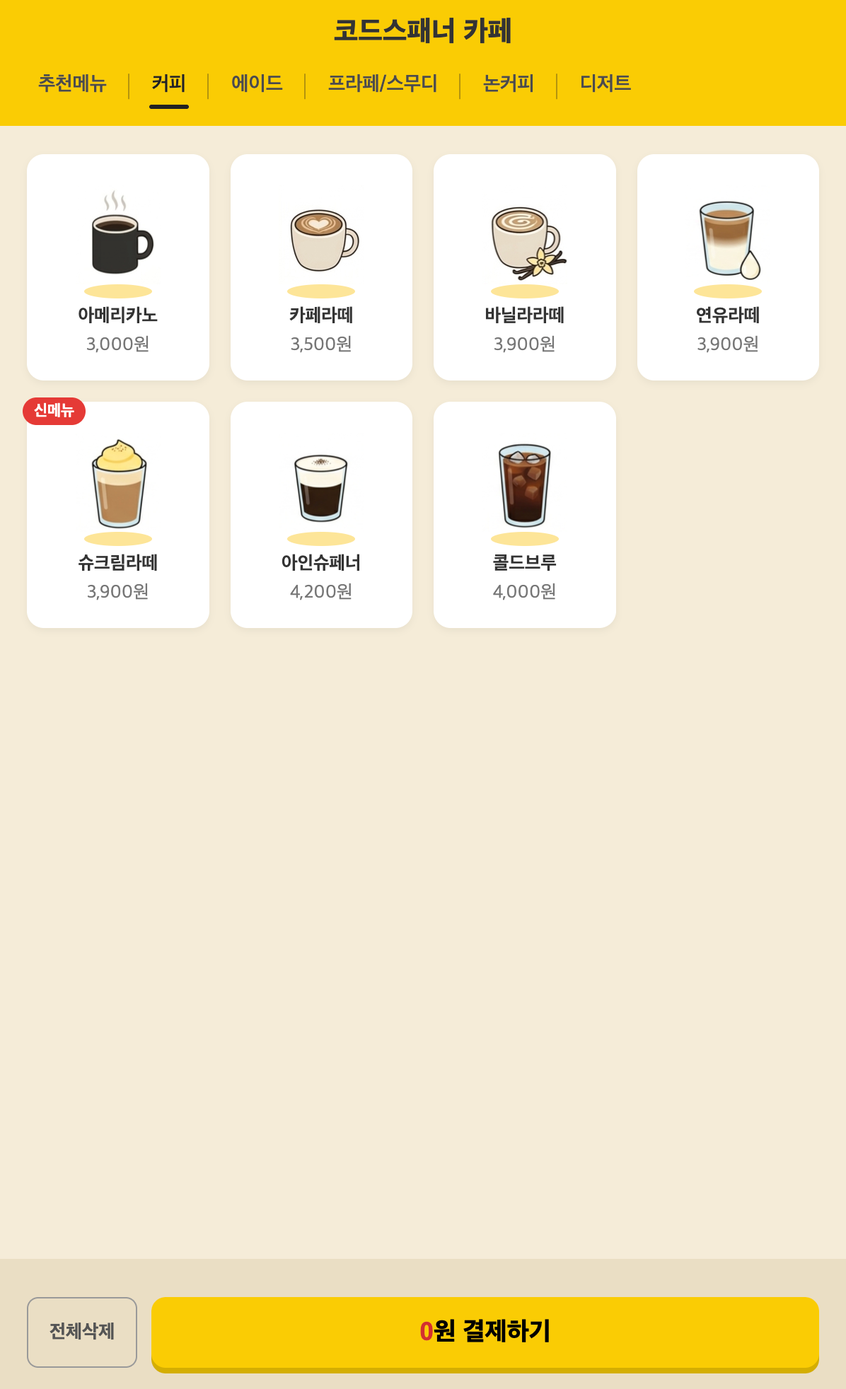action_button: (152, 1297, 818, 1374), (28, 1297, 138, 1368)
category_tab: (328, 73, 438, 94), (38, 73, 107, 94), (231, 74, 284, 94), (579, 74, 632, 94), (484, 74, 533, 95), (152, 74, 186, 94)
menu_back: (27, 401, 210, 628), (637, 154, 820, 381), (434, 154, 617, 381), (230, 401, 413, 628), (230, 154, 413, 381), (27, 154, 210, 381), (434, 402, 616, 629)
menu_name: (484, 305, 565, 325), (79, 553, 158, 572), (79, 307, 159, 325), (282, 553, 360, 571), (288, 306, 354, 325), (492, 554, 557, 573), (695, 306, 760, 324)
menu_price: (289, 335, 353, 354), (492, 583, 556, 601), (289, 583, 353, 601), (85, 583, 149, 601), (86, 335, 149, 353), (695, 335, 758, 353), (492, 335, 555, 353)
